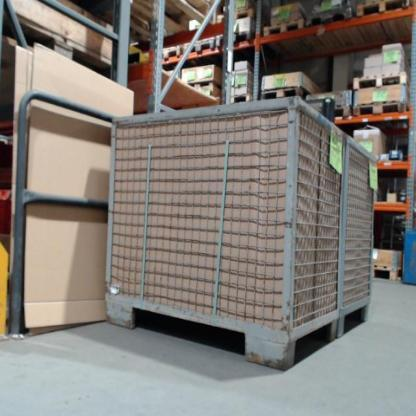pallets: (153, 0, 403, 61), (227, 85, 321, 104), (331, 100, 411, 120), (347, 70, 412, 89), (371, 263, 402, 281)
